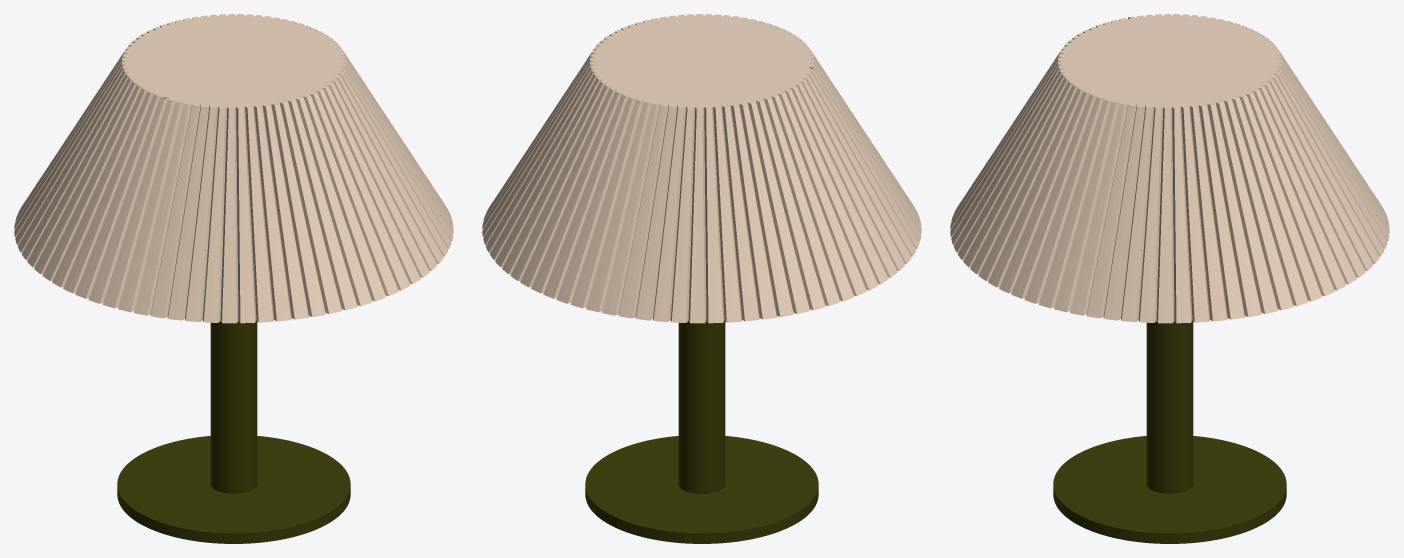
The model's file is Lamp_Color.fbx.
The picture shows the model from 3 angles, left to right: view 1: azimuth 30°, elevation 25°; view 2: azimuth 150°, elevation 25°; view 3: azimuth 270°, elevation 25°; orthographic projection.
Parts seen in each view (by area): view 1: Object; view 2: Object; view 3: Object.
Boxes of the visible parts, x1,y1,x2,y2 form: Object: (14,14,453,543); Object: (482,14,921,543); Object: (950,14,1389,543).
Bounding box in the file's own units: 94.18 × 103 × 94.19.
